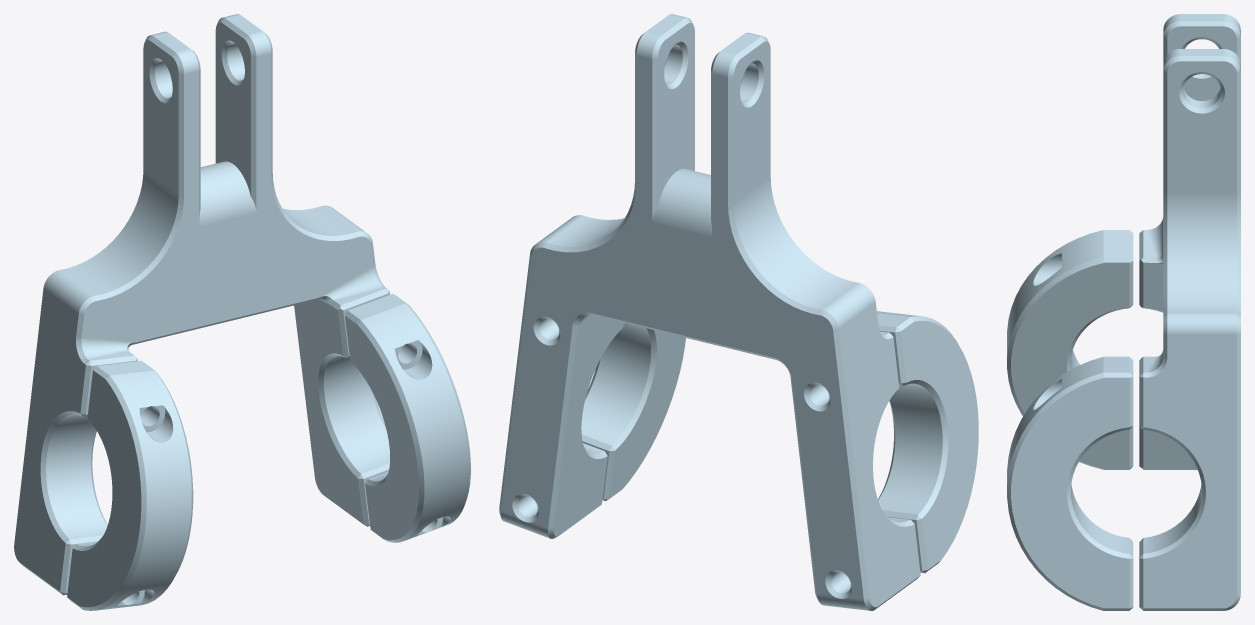
Rendered from headlight-mount.glb.
3 renders of one model, left to right at view 1: azimuth 30°, elevation 25°; view 2: azimuth 150°, elevation 25°; view 3: azimuth 270°, elevation 25°, orthographic. The views are drawn at different scales.
Visible parts, largest first — view 1: Part 1, Part 2, Part 3; view 2: Part 1, Part 2, Part 3; view 3: Part 1, Part 3, Part 2.
Part boxes in pixels (x1,y1,x2,y2): Part 1: [14, 14, 389, 595]; Part 2: [67, 360, 193, 610]; Part 3: [344, 294, 470, 542]; Part 1: [499, 14, 920, 610]; Part 2: [877, 311, 978, 573]; Part 3: [581, 323, 685, 501]; Part 1: [1139, 14, 1240, 610]; Part 3: [1007, 356, 1133, 610]; Part 2: [1007, 230, 1133, 469].
Bounding box in the file's own units: 0.068 × 0.092 × 0.0392.
